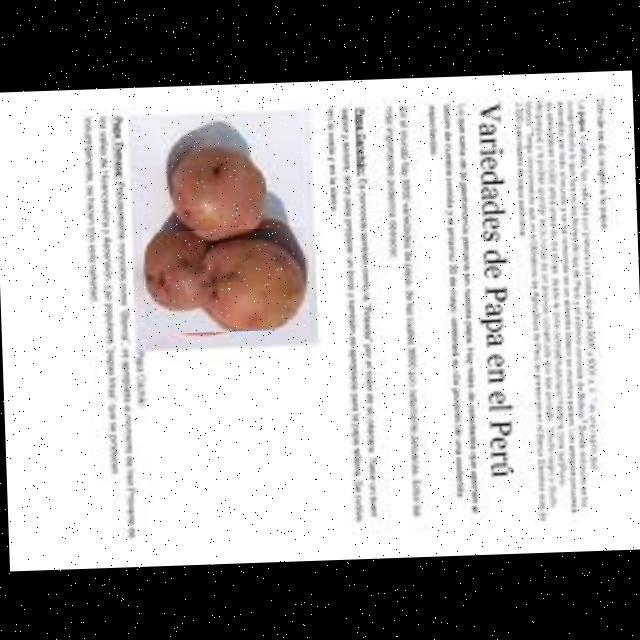Diseased-fungal potato: (141, 226, 308, 334), (161, 138, 268, 240)
